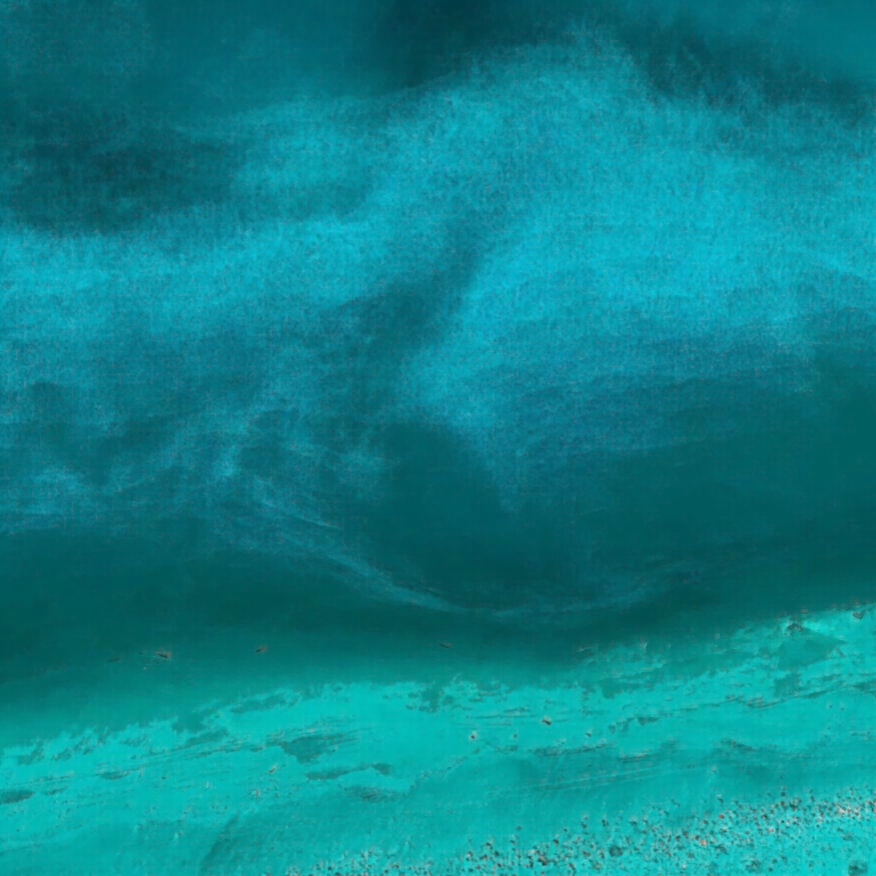rip_current: (296, 179, 617, 626)
